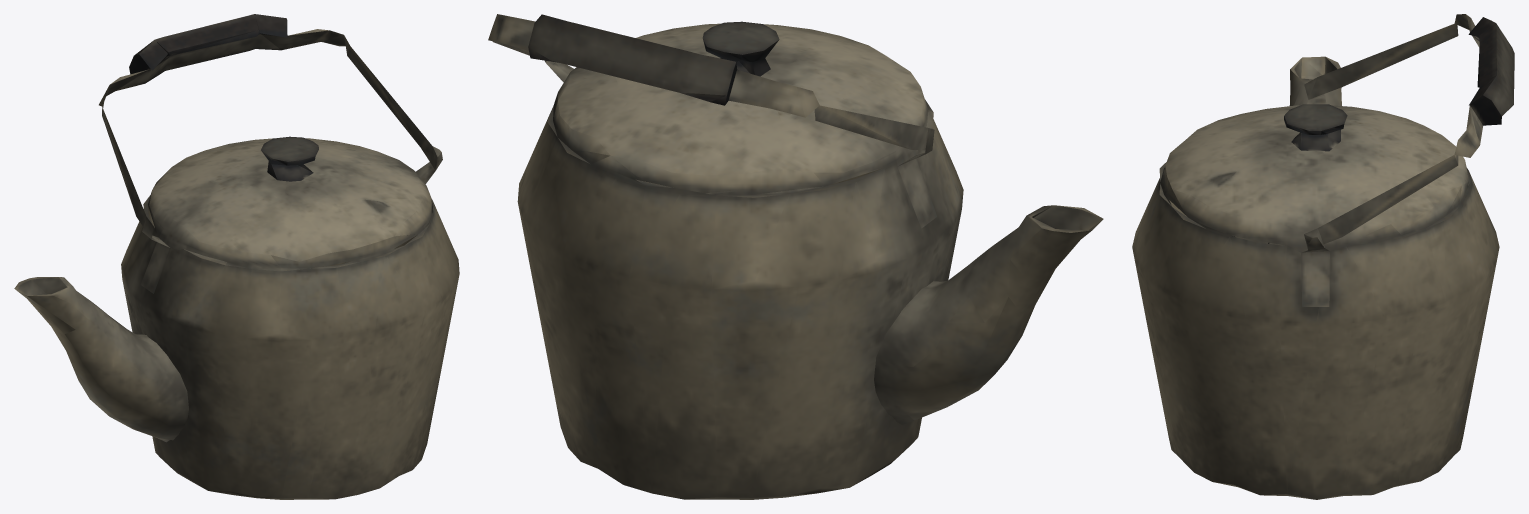
File: kettle.glb
3 views of the same model, side by side, from view 1: azimuth 30°, elevation 25°; view 2: azimuth 150°, elevation 25°; view 3: azimuth 270°, elevation 25° (orthographic). The views are drawn at different scales.
Visible parts, largest first — view 1: mesh; view 2: mesh; view 3: mesh.
Boxes of the visible parts, box(x1,y1,x2,y2) form: mesh: box(14, 14, 459, 499); mesh: box(488, 14, 1103, 499); mesh: box(1132, 14, 1514, 499).
Size of the model in its own units: 0.2705 by 0.22 by 0.1965.
1 material, 1 textured.
